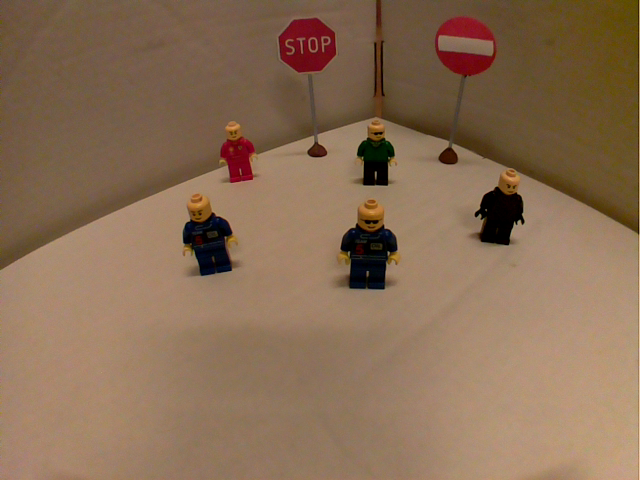Postac LEGO: (333, 196, 405, 296), (173, 190, 242, 284), (468, 159, 532, 249), (350, 113, 402, 191), (212, 115, 262, 185)
Stop: (273, 12, 341, 77)
Zakaz: (430, 12, 500, 80)
